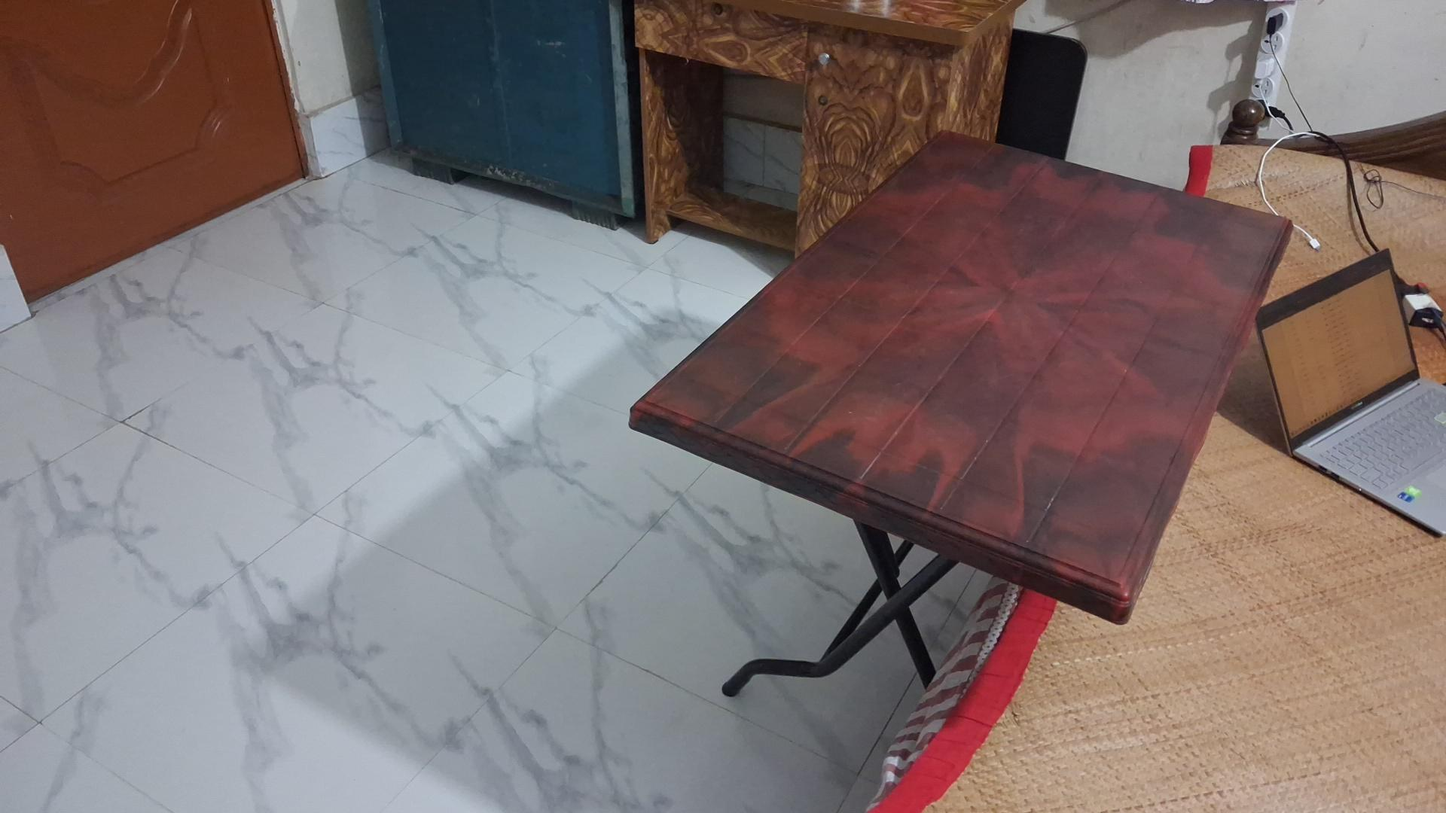Drawer: (626, 2, 820, 100)
Laptop: (1255, 246, 1445, 537)
Table: (626, 118, 1289, 695)
